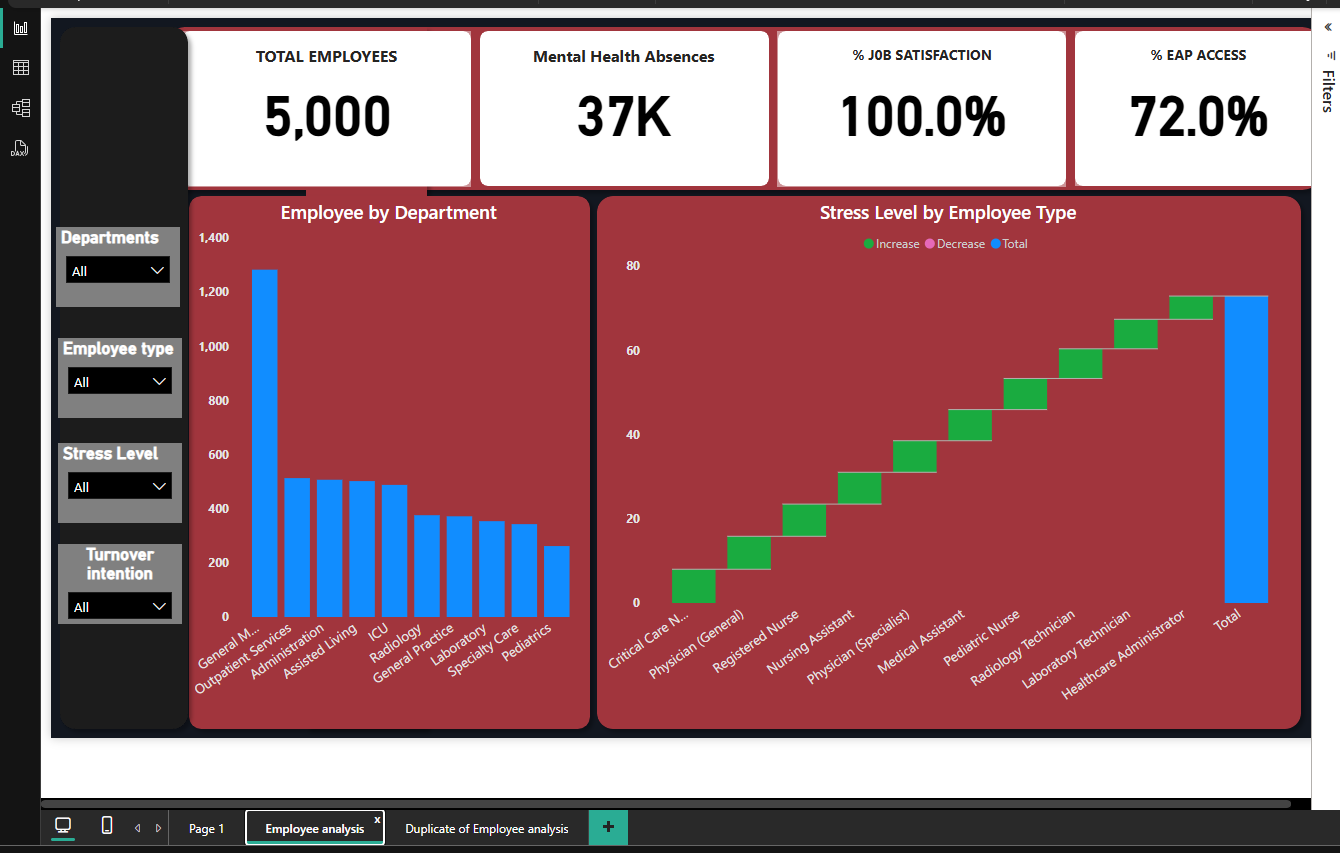

The dashboard page shown, as its layout file describes it:
{"tool":"powerbi","page":{"name":"Employee analysis","canvas":[1280,720],"ordinal":1},"visuals":[{"type":"shape","box":[105,0,1175,180.9],"z":1000},{"type":"shape","box":[246,0,139,720],"z":2000},{"type":"shape","box":[131,13,289,155],"z":3000},{"type":"shape","box":[428.8,12.6,288.9,155.6],"z":4000},{"type":"shape","box":[726.5,12.6,288.9,155.6],"z":5000},{"type":"shape","box":[1024.2,12.6,247.1,155.6],"z":6000},{"type":"card","fields":{"Values":["Measures (3).Total Employee"]},"box":[131,13,289,156],"z":7000},{"type":"card","fields":{"Values":["Measures (3).Total mental health absence"]},"box":[428,13,289,156],"z":8000},{"type":"textbox","box":[131,22,289,45],"z":9000},{"type":"textbox","box":[428,22,289,45],"z":10000},{"type":"card","fields":{"Values":["Measures (3).Job_Satisfaction_Percentage"]},"box":[726,13,289,156],"z":11000},{"type":"textbox","box":[727,22,288,48],"z":12000},{"type":"card","fields":{"Values":["Measures (3).EAP_Access_Percentage"]},"box":[1024,13,247,155],"z":13000},{"type":"textbox","box":[1024,22,247,48],"z":14000},{"type":"shape","box":[129,169,419,551],"z":15000},{"type":"shape","box":[537,169,722,551],"z":17000},{"type":"shape","box":[0,0,146,720],"z":18000},{"type":"slicer","title":"Departments","fields":{"Values":["Healthcare Workforce Mental Health Dataset.Department"]},"box":[5,209,124,80],"z":19000},{"type":"slicer","title":"Employee  type","fields":{"Values":["Healthcare Workforce Mental Health Dataset.Employee Type"]},"box":[7,320,124,80],"z":20000},{"type":"slicer","title":"Stress Level","fields":{"Values":["Healthcare Workforce Mental Health Dataset.Stress Level"]},"box":[7,425,124,80],"z":21000},{"type":"slicer","title":"Turnover intention","fields":{"Values":["Healthcare Workforce Mental Health Dataset.Turnover Intention"]},"box":[7,526,124,80],"z":22000},{"type":"columnChart","title":"Employee by Department","fields":{"Category":["Healthcare Workforce Mental Health Dataset.Department"],"Y":["Measures (3).Total Employee"]},"box":[138,181,399,522],"z":23000},{"type":"waterfallChart","title":"Stress Level by Employee Type","fields":{"Category":["Healthcare Workforce Mental Health Dataset.Employee Type"],"Y":["Avg(Healthcare Workforce Mental Health Dataset.Stress Level)"]},"box":[549,181,696,529],"z":24000}]}

Visuals, with their boxes on the page's 1280x720 design canvas (x1, y1, x2, y2). These are canvas units, not pixel positions in the 1340x853 screenshot, which may show the page scaled, cropped or inside an application window:
shape: [left=105, top=0, right=1280, bottom=181]
shape: [left=246, top=0, right=385, bottom=720]
shape: [left=131, top=13, right=420, bottom=168]
shape: [left=429, top=13, right=718, bottom=168]
shape: [left=726, top=13, right=1015, bottom=168]
shape: [left=1024, top=13, right=1271, bottom=168]
card - Measures (3).Total Employee: [left=131, top=13, right=420, bottom=169]
card - Measures (3).Total mental health absence: [left=428, top=13, right=717, bottom=169]
textbox: [left=131, top=22, right=420, bottom=67]
textbox: [left=428, top=22, right=717, bottom=67]
card - Measures (3).Job_Satisfaction_Percentage: [left=726, top=13, right=1015, bottom=169]
textbox: [left=727, top=22, right=1015, bottom=70]
card - Measures (3).EAP_Access_Percentage: [left=1024, top=13, right=1271, bottom=168]
textbox: [left=1024, top=22, right=1271, bottom=70]
shape: [left=129, top=169, right=548, bottom=720]
shape: [left=537, top=169, right=1259, bottom=720]
shape: [left=0, top=0, right=146, bottom=720]
"Departments" slicer: [left=5, top=209, right=129, bottom=289]
"Employee  type" slicer: [left=7, top=320, right=131, bottom=400]
"Stress Level" slicer: [left=7, top=425, right=131, bottom=505]
"Turnover intention" slicer: [left=7, top=526, right=131, bottom=606]
"Employee by Department" columnChart: [left=138, top=181, right=537, bottom=703]
"Stress Level by Employee Type" waterfallChart: [left=549, top=181, right=1245, bottom=710]
